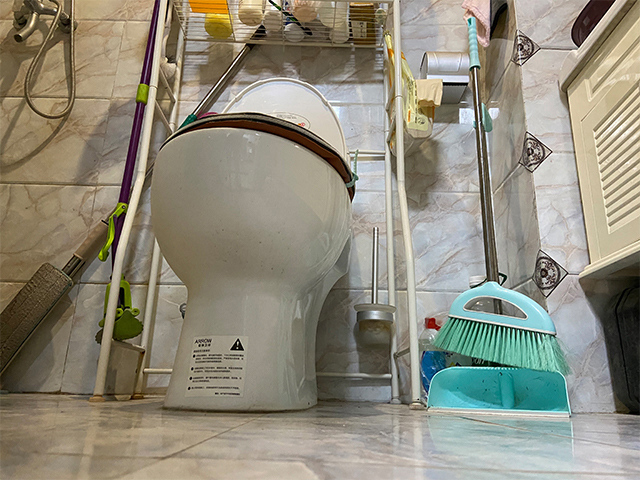closestool: (149, 76, 358, 414)
